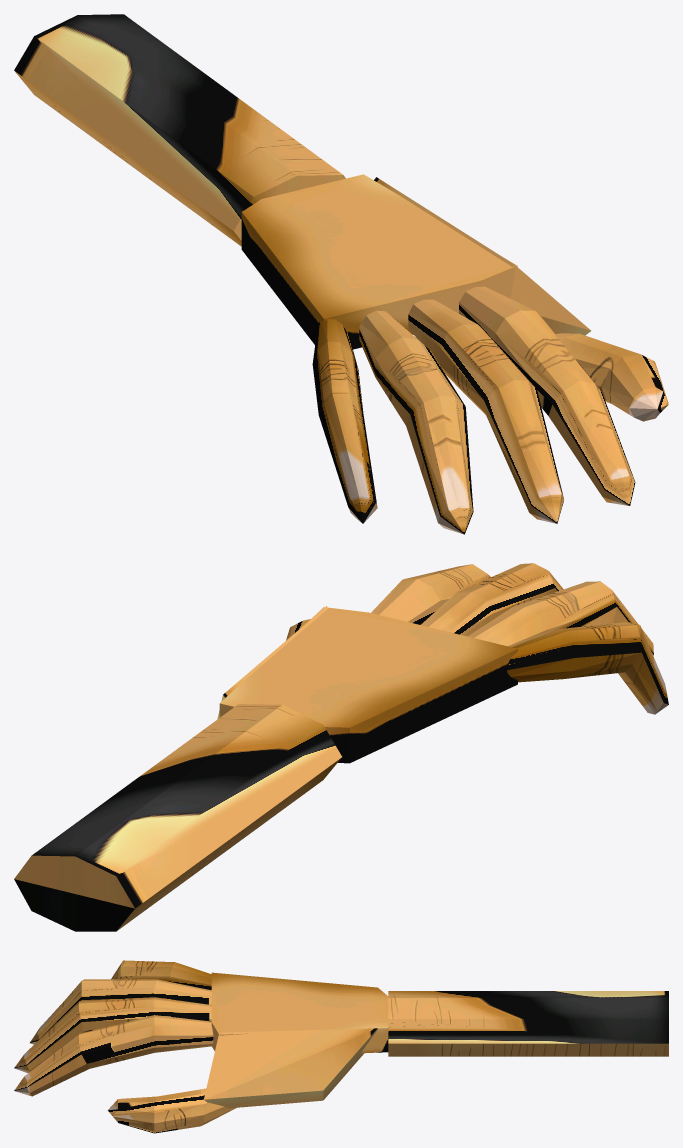
Rendered from Hand.glb.
3 renders of one model, top to bottom at view 1: azimuth 30°, elevation 25°; view 2: azimuth 150°, elevation 25°; view 3: azimuth 270°, elevation 25°, orthographic. The views are drawn at different scales.
Visible parts, largest first — view 1: Hand; view 2: Hand; view 3: Hand.
Part boxes in pixels (bbox=[...]): Hand: bbox=[14, 14, 668, 534]; Hand: bbox=[14, 563, 668, 931]; Hand: bbox=[14, 960, 668, 1133].
Size of the model in its own units: 74.14 by 27.02 by 184.
Materials: 1 (1 with a texture image).
